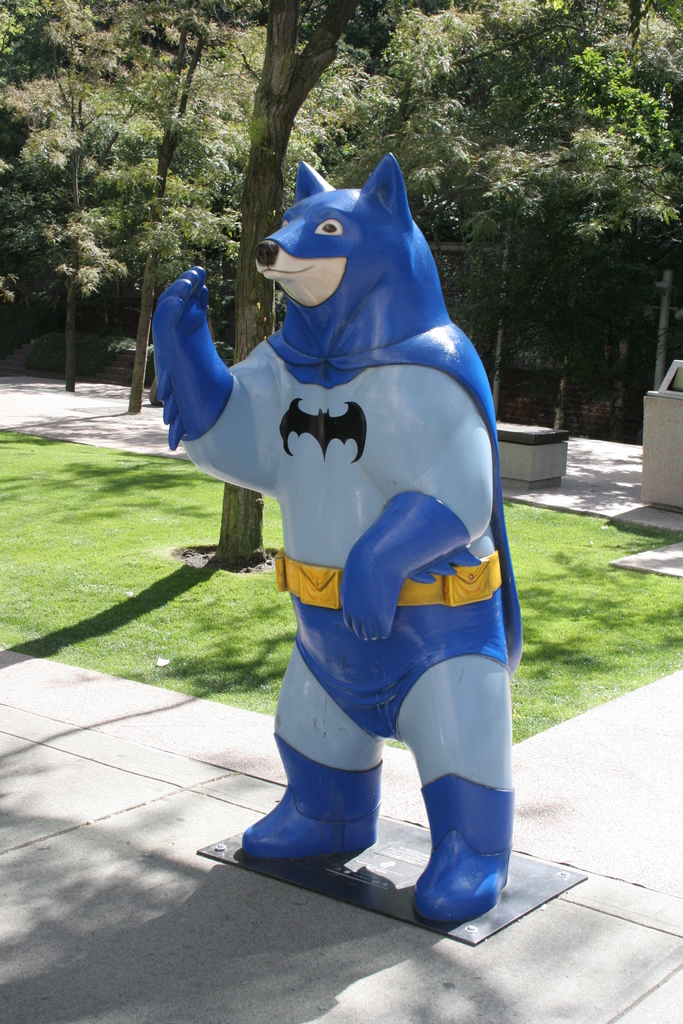Animal: (140, 160, 526, 930)
